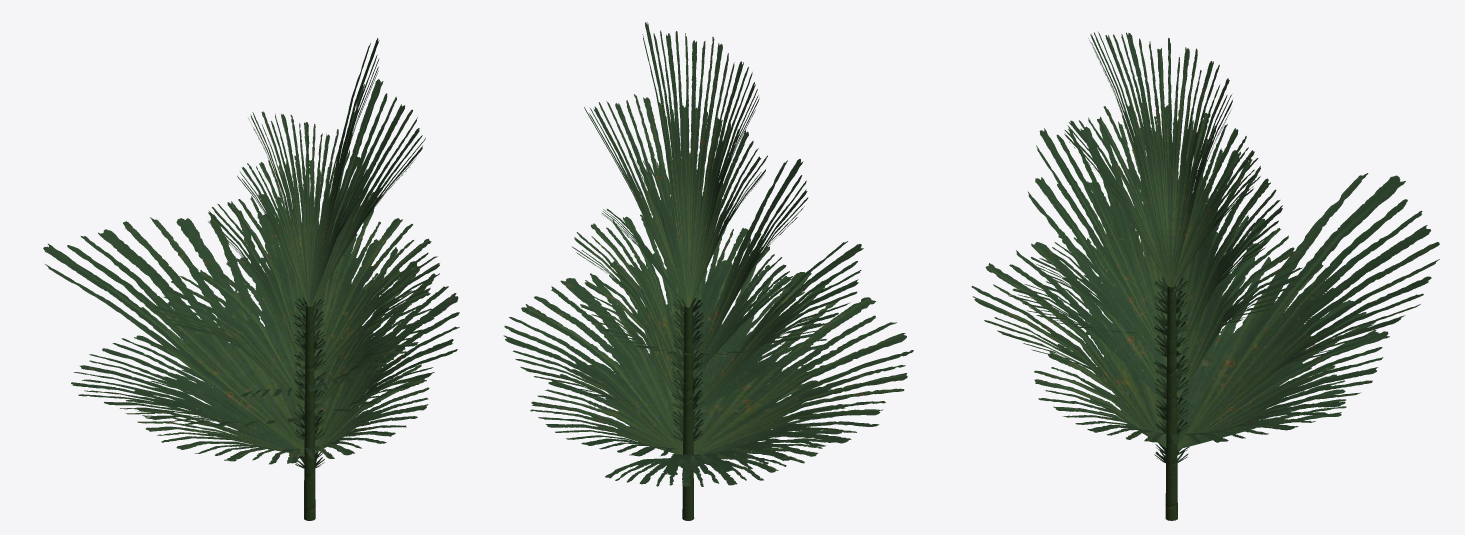
File: Plant - Alien Plant 13B-CNjmQtcG.glb
3 renders of one model, left to right at view 1: azimuth 30°, elevation 25°; view 2: azimuth 150°, elevation 25°; view 3: azimuth 270°, elevation 25°, orthographic. The views are drawn at different scales.
Parts seen in each view (by area): view 1: Plant13B(Clone); view 2: Plant13B(Clone); view 3: Plant13B(Clone).
Boxes of the visible parts, left/top/right/bottom form: Plant13B(Clone): left=43, top=38, right=459, bottom=520; Plant13B(Clone): left=503, top=22, right=913, bottom=520; Plant13B(Clone): left=971, top=32, right=1439, bottom=520.
Size of the model in its own units: 3.19 by 4.03 by 3.34.
Materials: 1 (1 with a texture image).
